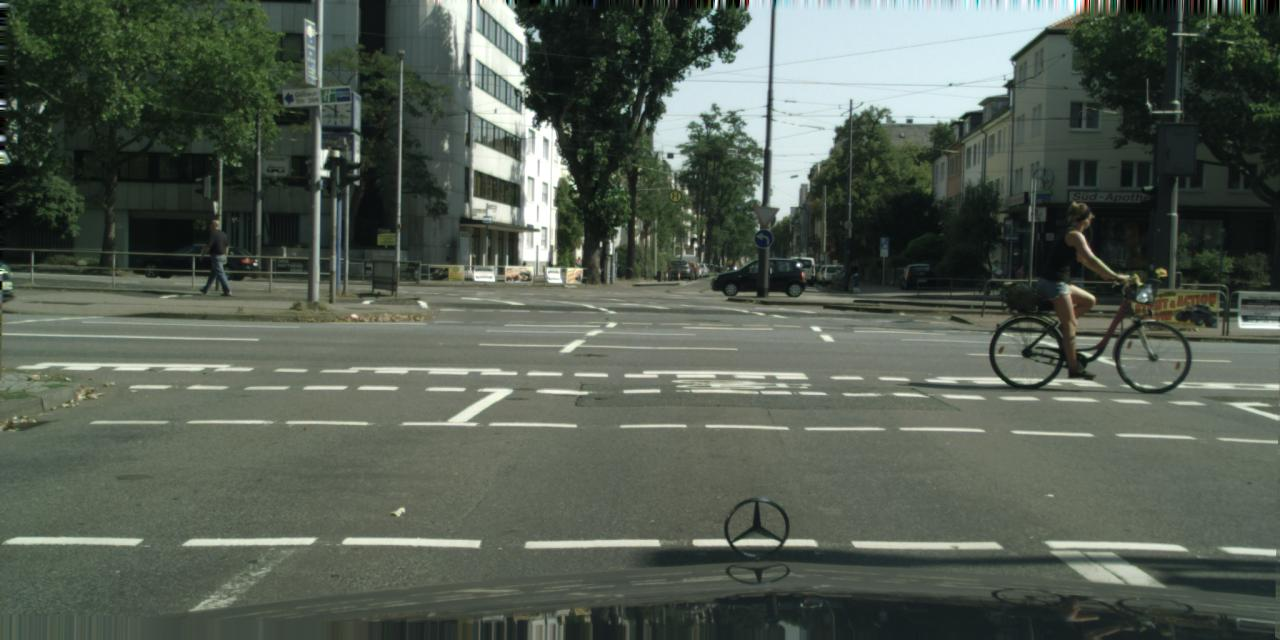ped: (1040, 201, 1112, 378), (198, 219, 229, 294), (990, 259, 1002, 290), (1014, 264, 1026, 294), (573, 256, 582, 276)
